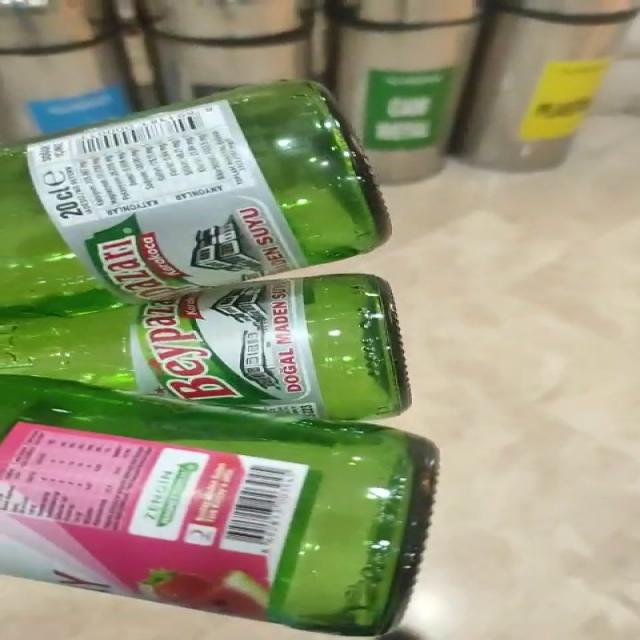glass: (1, 80, 439, 637)
